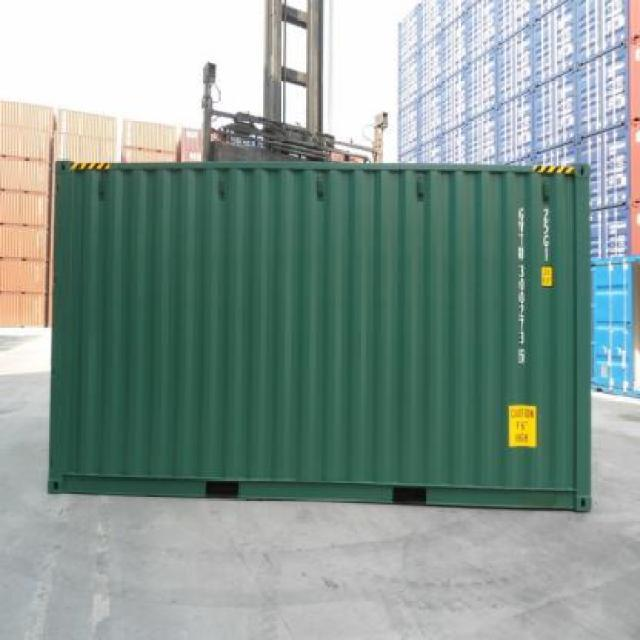ISO: (542, 198, 552, 266)
container_number: (510, 198, 528, 366)
